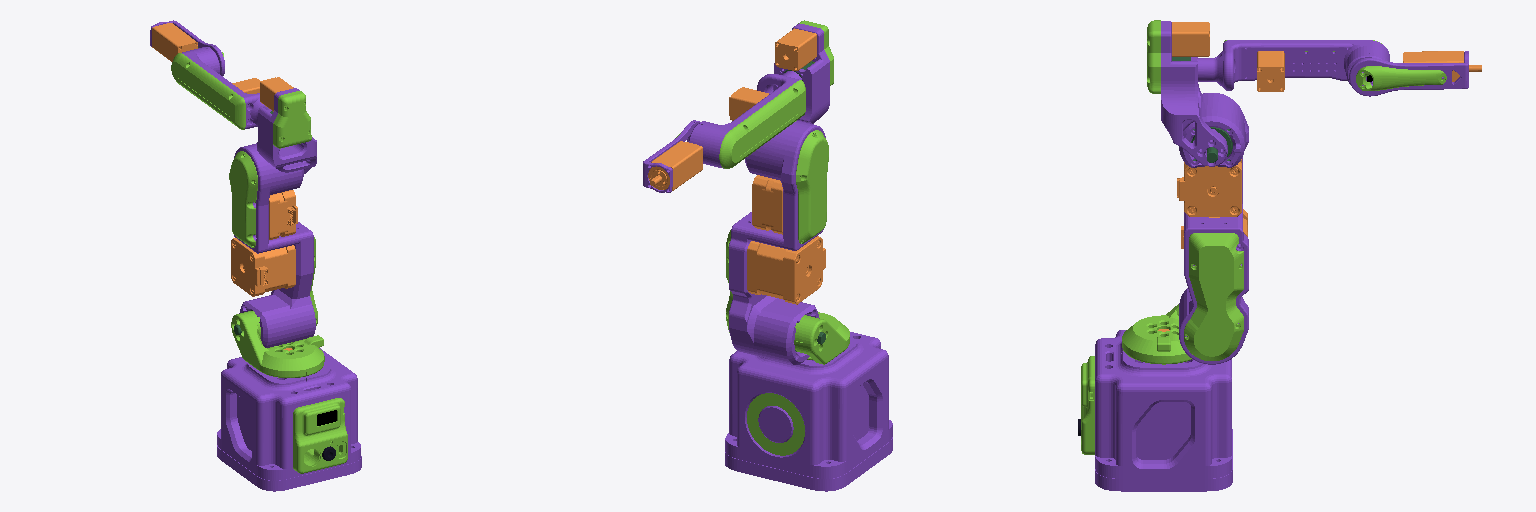
URDF robot description (Robot6DOF):
<?xml version="1.0"?>
<!-- created with Phobos 1.0.1 "Capricious Choutengan" -->
  <robot name="Robot6DOF">

    <link name="link1">
      <inertial>
        <origin xyz="0 0 0" rpy="0 0 0"/>
        <mass value="0.141"/>
        <inertia ixx="0.00012" ixy="0" ixz="0" iyy="2e-05" iyz="0" izz="2e-05"/>
      </inertial>
      <visual name="Main_Joint_1">
        <origin xyz="0 0 0" rpy="1.5708 0 0"/>
        <geometry>
          <mesh filename="package://test_pkg/meshes/dae/Main_Joint_1.dae" scale="1.0 1.0 1.0"/>
        </geometry>
        <material name="GreenLight"/>
      </visual>
      <collision name="Main_Joint_1">
        <origin xyz="0 0 0" rpy="1.5708 0 0"/>
        <geometry>
          <mesh filename="package://test_pkg/meshes/dae/Main_Joint_1.001.dae" scale="1.0 1.0 1.0"/>
        </geometry>
      </collision>
    </link>

    <link name="link2">
      <inertial>
        <origin xyz="0 0 0" rpy="0 0 0"/>
        <mass value="0.327"/>
        <inertia ixx="0.001" ixy="0" ixz="0" iyy="0.001" iyz="0" izz="0.001"/>
      </inertial>
      <visual name="Main_CSF-8-30-1U_v2">
        <origin xyz="0 0.146 0.02269" rpy="0 -1.5708 0"/>
        <geometry>
          <mesh filename="package://test_pkg/meshes/dae/Main_CSF-8-30-1U_v2.dae" scale="1.0 1.0 1.0"/>
        </geometry>
        <material name="GreenDark"/>
      </visual>
      <visual name="Main_CSF-8-30-1U_v2_1">
        <origin xyz="-1e-05 0 0.01996" rpy="0 -1.5708 0"/>
        <geometry>
          <mesh filename="package://test_pkg/meshes/dae/Main_CSF-8-30-1U_v2_1.dae" scale="1.0 1.0 1.0"/>
        </geometry>
        <material name="GreenDark"/>
      </visual>
      <visual name="Main_CaseJoint2_3">
        <origin xyz="0 0 0" rpy="0 -1.5708 0"/>
        <geometry>
          <mesh filename="package://test_pkg/meshes/dae/Main_CaseJoint2_3.dae" scale="1.0 1.0 1.0"/>
        </geometry>
        <material name="VioletLight"/>
      </visual>
      <visual name="Main_CaseOutside_1">
        <origin xyz="0.0018 0.12238 -0.00859" rpy="0 -1.5708 0"/>
        <geometry>
          <mesh filename="package://test_pkg/meshes/dae/Main_CaseOutside_1.dae" scale="1.0 1.0 1.0"/>
        </geometry>
        <material name="GreenLight"/>
      </visual>
      <visual name="Main_CaseOutside_2">
        <origin xyz="0.00263 0.03311 0.05513" rpy="0 -1.5708 0"/>
        <geometry>
          <mesh filename="package://test_pkg/meshes/dae/Main_CaseOutside_2.dae" scale="1.0 1.0 1.0"/>
        </geometry>
        <material name="GreenLight"/>
      </visual>
      <visual name="Main_Nema17_Slim">
        <origin xyz="0.00082 0.10757 0.01994" rpy="0 -1.5708 0"/>
        <geometry>
          <mesh filename="package://test_pkg/meshes/dae/Main_Nema17_Slim.dae" scale="1.0 1.0 1.0"/>
        </geometry>
        <material name="Orange"/>
      </visual>
      <visual name="Main_Nema17_StepperMotor">
        <origin xyz="0.00481 0.05535 0.01494" rpy="0 -1.5708 0"/>
        <geometry>
          <mesh filename="package://test_pkg/meshes/dae/Main_Nema17_StepperMotor.dae" scale="1.0 1.0 1.0"/>
        </geometry>
        <material name="Orange"/>
      </visual>
      <collision name="Main_CaseJoint2_3">
        <origin xyz="0 0 0" rpy="0 -1.5708 0"/>
        <geometry>
          <mesh filename="package://test_pkg/meshes/dae/Main_CaseJoint2_3.001.dae" scale="1.0 1.0 1.0"/>
        </geometry>
      </collision>
    </link>

    <link name="link3">
      <inertial>
        <origin xyz="0 0 0" rpy="0 0 0"/>
        <mass value="0.105"/>
        <inertia ixx="0.001" ixy="0" ixz="0" iyy="0.001" iyz="0" izz="0.001"/>
      </inertial>
      <visual name="Main_CSF-5-30-1U_v2">
        <origin xyz="-0.0214 0.052 -0.02015" rpy="0 -1.5708 0"/>
        <geometry>
          <mesh filename="package://test_pkg/meshes/dae/Main_CSF-5-30-1U_v2.dae" scale="1.0 1.0 1.0"/>
        </geometry>
        <material name="GreenDark"/>
      </visual>
      <visual name="Main_CaseJoint4">
        <origin xyz="0 0 0" rpy="0 -1.5708 0"/>
        <geometry>
          <mesh filename="package://test_pkg/meshes/dae/Main_CaseJoint4.dae" scale="1.0 1.0 1.0"/>
        </geometry>
        <material name="VioletLight"/>
      </visual>
      <visual name="Main_CaseOutside_3">
        <origin xyz="-0.0429 0.06027 -0.01998" rpy="0 -1.5708 0"/>
        <geometry>
          <mesh filename="package://test_pkg/meshes/dae/Main_CaseOutside_3.dae" scale="1.0 1.0 1.0"/>
        </geometry>
        <material name="GreenLight"/>
      </visual>
      <visual name="Main_PK513PA-H50S_v2">
        <origin xyz="-0.01629 0.0762 -0.02015" rpy="0 -1.5708 0"/>
        <geometry>
          <mesh filename="package://test_pkg/meshes/dae/Main_PK513PA-H50S_v2.dae" scale="1.0 1.0 1.0"/>
        </geometry>
        <material name="Orange"/>
      </visual>
      <collision name="Main_CaseJoint4">
        <origin xyz="0 0 0.012" rpy="0 -1.5708 0"/>
        <geometry>
          <mesh filename="package://test_pkg/meshes/dae/Main_CaseJoint4.001.dae" scale="1.0 1.0 1.0"/>
        </geometry>
      </collision>
    </link>

    <link name="link4">
      <inertial>
        <origin xyz="0 0 0" rpy="0 0 0"/>
        <mass value="0.082"/>
        <inertia ixx="0.00101" ixy="0" ixz="0" iyy="0.00101" iyz="0" izz="0.00101"/>
      </inertial>
      <visual name="Main_CSF-5-30-1U_v2_1">
        <origin xyz="0.0026 0 0.127" rpy="0 3.14159 0"/>
        <geometry>
          <mesh filename="package://test_pkg/meshes/dae/Main_CSF-5-30-1U_v2_1.dae" scale="1.0 1.0 1.0"/>
        </geometry>
        <material name="Black"/>
      </visual>
      <visual name="Main_CaseJoint_5_1">
        <origin xyz="0 0 0" rpy="0 3.14159 0"/>
        <geometry>
          <mesh filename="package://test_pkg/meshes/dae/Main_CaseJoint_5_1.dae" scale="1.0 1.0 1.0"/>
        </geometry>
        <material name="VioletLight"/>
      </visual>
      <visual name="Main_CaseJoint_5_2">
        <origin xyz="0.00941 0.00049 0.096" rpy="0 3.14159 0"/>
        <geometry>
          <mesh filename="package://test_pkg/meshes/dae/Main_CaseJoint_5_2.dae" scale="1.0 1.0 1.0"/>
        </geometry>
        <material name="VioletLight"/>
      </visual>
      <visual name="Main_CaseOutside_4">
        <origin xyz="0.02242 0.00045 0.07361" rpy="0 3.14159 0"/>
        <geometry>
          <mesh filename="package://test_pkg/meshes/dae/Main_CaseOutside_4.dae" scale="1.0 1.0 1.0"/>
        </geometry>
        <material name="GreenLight"/>
      </visual>
      <visual name="Main_PK513PA-H50S_v2_1">
        <origin xyz="-0.00251 0 0.0549" rpy="0 3.14159 0"/>
        <geometry>
          <mesh filename="package://test_pkg/meshes/dae/Main_PK513PA-H50S_v2_1.dae" scale="1.0 1.0 1.0"/>
        </geometry>
        <material name="Orange"/>
      </visual>
      <collision name="Main_CaseJoint_5_1">
        <origin xyz="0 0 0" rpy="0 3.14159 0"/>
        <geometry>
          <mesh filename="package://test_pkg/meshes/dae/Main_CaseJoint_5_1.001.dae" scale="1.0 1.0 1.0"/>
        </geometry>
      </collision>
      <collision name="Main_CaseJoint_5_2">
        <origin xyz="0.00941 0.00049 0.096" rpy="0 3.14159 0"/>
        <geometry>
          <mesh filename="package://test_pkg/meshes/dae/Main_CaseJoint_5_2.001.dae" scale="1.0 1.0 1.0"/>
        </geometry>
      </collision>
    </link>

    <link name="link5">
      <inertial>
        <origin xyz="0 0 0" rpy="0 0 0"/>
        <mass value="0.018"/>
        <inertia ixx="2e-05" ixy="0" ixz="0" iyy="2e-05" iyz="0" izz="2e-05"/>
      </inertial>
      <visual name="Main_CaseJoint_6">
        <origin xyz="0 0 0" rpy="0 -1.5708 0"/>
        <geometry>
          <mesh filename="package://test_pkg/meshes/dae/Main_CaseJoint_6.dae" scale="1.0 1.0 1.0"/>
        </geometry>
        <material name="VioletLight"/>
      </visual>
      <visual name="Main_CaseOutside_5">
        <origin xyz="0.01892 0.00032 0.01025" rpy="0 -1.5708 0"/>
        <geometry>
          <mesh filename="package://test_pkg/meshes/dae/Main_CaseOutside_5.dae" scale="1.0 1.0 1.0"/>
        </geometry>
        <material name="GreenLight"/>
      </visual>
      <visual name="Main_PK513PA-H50S_v1">
        <origin xyz="0.04794 0.00061 -0.0068" rpy="0 -1.5708 0"/>
        <geometry>
          <mesh filename="package://test_pkg/meshes/dae/Main_PK513PA-H50S_v1.dae" scale="1.0 1.0 1.0"/>
        </geometry>
        <material name="Orange"/>
      </visual>
      <collision name="Main_CaseJoint_6">
        <origin xyz="0 0 0" rpy="0 -1.5708 0"/>
        <geometry>
          <mesh filename="package://test_pkg/meshes/dae/Main_CaseJoint_6.001.dae" scale="1.0 1.0 1.0"/>
        </geometry>
      </collision>
    </link>

    <link name="link6">
      <inertial>
        <origin xyz="0 0 0" rpy="0 0 0"/>
        <mass value="0.004"/>
        <inertia ixx="2e-05" ixy="0" ixz="0" iyy="2e-05" iyz="0" izz="2e-05"/>
      </inertial>
      <visual name="Gripper">
        <origin xyz="0 0 0" rpy="0 0 0"/>
        <geometry>
          <mesh filename="package://test_pkg/meshes/dae/Gripper.dae" scale="0.25 0.25 0.25"/>
        </geometry>
        <material name="Black"/>
      </visual>
      <collision name="Gripper">
        <origin xyz="0 -3e-05 0.01258" rpy="0 0 0"/>
        <geometry>
          <cylinder radius="0.00628" length="0.02522"/>
        </geometry>
      </collision>
    </link>

    <link name="root">
      <inertial>
        <origin xyz="0 0 0" rpy="0 0 0"/>
        <mass value="0.911"/>
        <inertia ixx="0.00228" ixy="0" ixz="0" iyy="2e-05" iyz="0" izz="2e-05"/>
      </inertial>
      <visual name="Main_Base">
        <origin xyz="0 0 0" rpy="1.5708 0 0"/>
        <geometry>
          <mesh filename="package://test_pkg/meshes/dae/Main_Base.dae" scale="1.0 1.0 1.0"/>
        </geometry>
        <material name="VioletLight"/>
      </visual>
      <visual name="Main_BotonLED">
        <origin xyz="-0.01182 -0.05151 -0.01961" rpy="1.5708 0 0"/>
        <geometry>
          <mesh filename="package://test_pkg/meshes/dae/Main_BotonLED.dae" scale="1.0 1.0 1.0"/>
        </geometry>
        <material name="GreenLight"/>
      </visual>
      <visual name="Main_CRK543AP-H50">
        <origin xyz="0 -0.00319 -0.00114" rpy="1.5708 0 0"/>
        <geometry>
          <mesh filename="package://test_pkg/meshes/dae/Main_CRK543AP-H50.dae" scale="1.0 1.0 1.0"/>
        </geometry>
        <material name="Orange"/>
      </visual>
      <visual name="Main_CaseButtons">
        <origin xyz="-0.0022 -0.05152 -0.0145" rpy="1.5708 0 0"/>
        <geometry>
          <mesh filename="package://test_pkg/meshes/dae/Main_CaseButtons.dae" scale="1.0 1.0 1.0"/>
        </geometry>
        <material name="GreenLight"/>
      </visual>
      <visual name="Main_ExtraPart1">
        <origin xyz="0 0.04315 -0.00422" rpy="1.5708 0 0"/>
        <geometry>
          <mesh filename="package://test_pkg/meshes/dae/Main_ExtraPart1.dae" scale="1.0 1.0 1.0"/>
        </geometry>
        <material name="GreenLight"/>
      </visual>
      <visual name="Main_Screen">
        <origin xyz="0.00144 -0.06111 0.01422" rpy="1.5708 0 0"/>
        <geometry>
          <mesh filename="package://test_pkg/meshes/dae/Main_Screen.dae" scale="1.0 1.0 1.0"/>
        </geometry>
      </visual>
      <visual name="Main_Socket_5V">
        <origin xyz="0.00464 -0.06078 -0.0195" rpy="1.5708 0 0"/>
        <geometry>
          <mesh filename="package://test_pkg/meshes/dae/Main_Socket_5V.dae" scale="1.0 1.0 1.0"/>
        </geometry>
        <material name="VioletDark"/>
      </visual>
      <visual name="Main_Soporte">
        <origin xyz="0 -0.00016 -0.04472" rpy="1.5708 0 0"/>
        <geometry>
          <mesh filename="package://test_pkg/meshes/dae/Main_Soporte.dae" scale="1.0 1.0 1.0"/>
        </geometry>
        <material name="VioletLight"/>
      </visual>
      <collision name="Main_Base">
        <origin xyz="0 0 0" rpy="1.5708 0 0"/>
        <geometry>
          <mesh filename="package://test_pkg/meshes/dae/Main_Base.001.dae" scale="1.0 1.0 1.0"/>
        </geometry>
      </collision>
    </link>

    <joint name="link1" type="revolute">
      <origin xyz="0 -0.00275 0.03278" rpy="0 0 0"/>
      <parent link="root"/>
      <child link="link1"/>
      <axis xyz="0 0 1.0"/>
      <limit lower="-3.14159" upper="3.14159" effort="3.5" velocity="52.35988"/>
    </joint>

    <joint name="link2" type="revolute">
      <origin xyz="-0.0175 0.035 0.035" rpy="1.5708 0 1.5708"/>
      <parent link="link1"/>
      <child link="link2"/>
      <axis xyz="0 0 1.0"/>
      <limit lower="-1.5708" upper="1.29154" effort="0.3" velocity="34.90659"/>
    </joint>

    <joint name="link3" type="revolute">
      <origin xyz="0 0.146 0.03765" rpy="0 0 0"/>
      <parent link="link2"/>
      <child link="link3"/>
      <axis xyz="0 0 1.0"/>
      <limit lower="-1.5708" upper="0.73304" effort="0.17" velocity="26.17994"/>
    </joint>

    <joint name="link4" type="revolute">
      <origin xyz="-0.012 0.052 -0.02015" rpy="0 1.5708 0"/>
      <parent link="link3"/>
      <child link="link4"/>
      <axis xyz="0 0 1.0"/>
      <limit lower="-3.14159" upper="3.14159" effort="0.4" velocity="2.61799"/>
    </joint>

    <joint name="link5" type="revolute">
      <origin xyz="-0.0068 0 0.127" rpy="0 -1.5708 0"/>
      <parent link="link4"/>
      <child link="link5"/>
      <axis xyz="0 0 1.0"/>
      <limit lower="-2.35619" upper="2.35619" effort="0.4" velocity="2.61799"/>
    </joint>

    <joint name="link6" type="revolute">
      <origin xyz="0.07739 0.00077 -0.0068" rpy="0 1.5708 0"/>
      <parent link="link5"/>
      <child link="link6"/>
      <axis xyz="0 0 1.0"/>
      <limit lower="-3.14159" upper="3.14159" effort="0.4" velocity="78.53982"/>
    </joint>

    <material name="Black">
      <color rgba="0 0 0 1.0"/>
    </material>

    <material name="GreenDark">
      <color rgba="0.24706 0.42745 0.30588 1.0"/>
    </material>

    <material name="GreenLight">
      <color rgba="0.5451 0.83137 0.31372 1.0"/>
    </material>

    <material name="Orange">
      <color rgba="0.97647 0.61569 0.32157 1.0"/>
    </material>

    <material name="VioletDark">
      <color rgba="0.11372 0.10196 0.18431 1.0"/>
    </material>

    <material name="VioletLight">
      <color rgba="0.58824 0.37255 0.83137 1.0"/>
    </material>

  </robot>

--- Facts derived from the render (not from the file) ---
3 views of the same robot in one strip: view 1: azimuth 30°, elevation 25°; view 2: azimuth 150°, elevation 25°; view 3: azimuth 270°, elevation 25° (orthographic).
Model Robot6DOF with 7 links and 6 joints (6 revolute), rooted at root, posed every joint at zero.
Links seen in each view (by area): view 1: root, link2, link3, link4, link1, link5; view 2: root, link2, link4, link3, link5, link1; view 3: root, link2, link4, link3, link5, link1.
Link boxes in pixels (x1,y1,x2,y2): root: (217,348,361,491); link2: (229,143,317,347); link3: (257,77,316,173); link4: (171,47,268,129); link1: (231,311,324,377); link5: (150,20,224,75); root: (725,332,892,491); link2: (726,121,828,364); link4: (689,71,805,168); link3: (774,20,833,123); link5: (643,120,702,192); link1: (794,312,849,364); root: (1078,329,1232,491); link2: (1177,93,1248,364); link4: (1197,40,1389,91); link3: (1147,20,1227,166); link5: (1349,51,1481,96); link1: (1122,304,1191,364).
Bounding box of the posed robot: 0.101 × 0.2948 × 0.3507 m (x, y, z).
Meshes: 29 distinct files referenced, 27 mesh visuals loaded (27 Collada DAE); not drawn: 2 (reference not matched to a file when rendering).